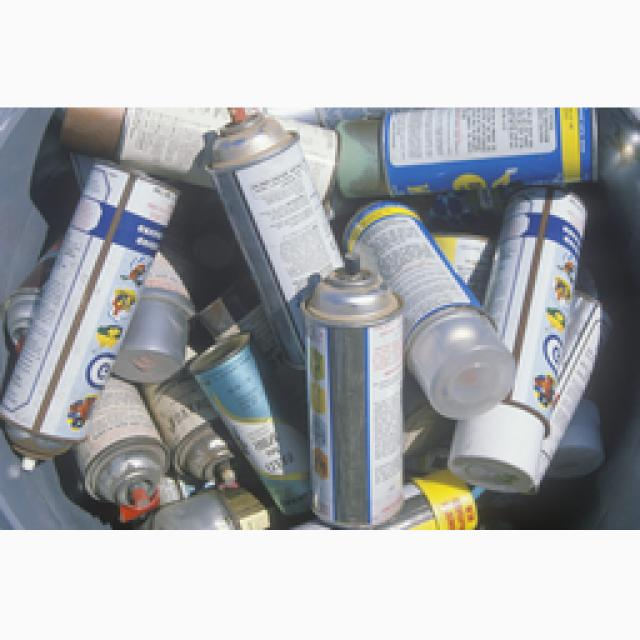B3: (5, 162, 178, 454), (461, 192, 596, 494), (342, 202, 514, 422), (209, 115, 345, 366), (298, 254, 404, 528), (190, 332, 312, 516), (347, 110, 595, 198)
